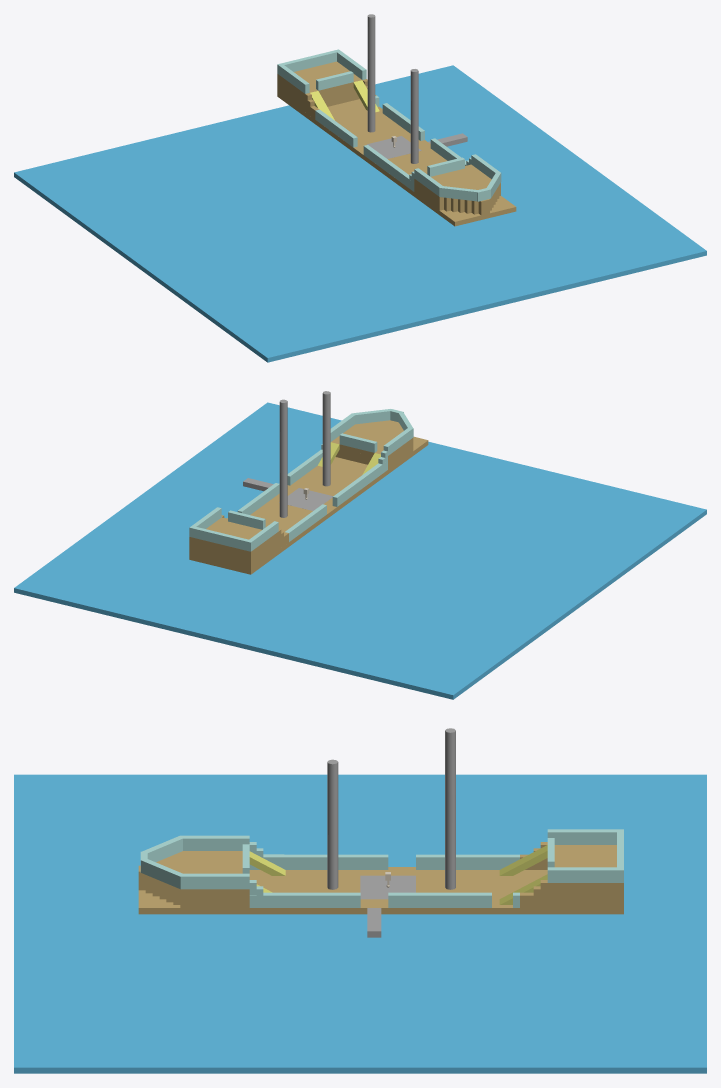
Rendered from Ship Export.fbx.
The picture shows the model from 3 angles, top to bottom: view 1: azimuth 30°, elevation 25°; view 2: azimuth 150°, elevation 25°; view 3: azimuth 270°, elevation 25°; orthographic projection. The views are drawn at different scales.
Parts seen in each view (by area): view 1: polySurface1; view 2: polySurface1; view 3: polySurface1.
Boxes of the visible parts, left/top/right/bottom form: polySurface1: left=14, top=14, right=706, bottom=362; polySurface1: left=14, top=391, right=706, bottom=699; polySurface1: left=14, top=728, right=706, bottom=1073.
Size of the model in its own units: 10000 by 3600 by 10000.
